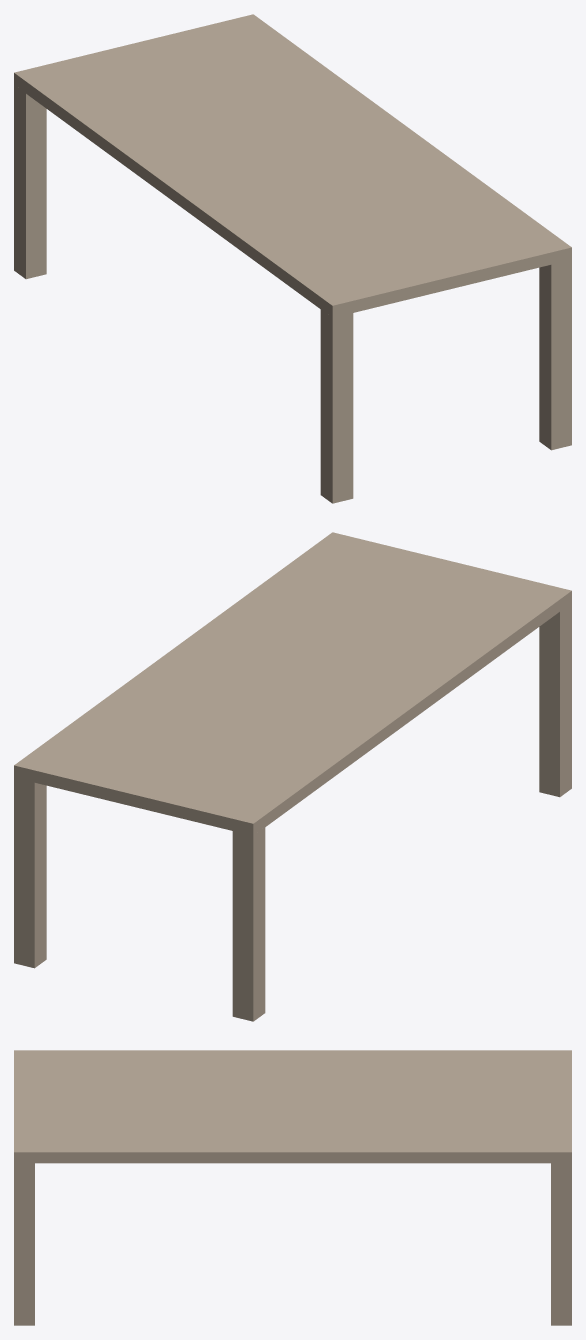
The model's file is GrandeTable_4.fbx.
3 renders of one model, top to bottom at view 1: azimuth 30°, elevation 25°; view 2: azimuth 150°, elevation 25°; view 3: azimuth 270°, elevation 25°, orthographic. The views are drawn at different scales.
Parts seen in each view (by area): view 1: pCube43, pCube47, pCube46, pCube49; view 2: pCube43, pCube49, pCube48, pCube47; view 3: pCube43, pCube48, pCube46.
Boxes of the visible parts, x1,y1,x2,y2 form: pCube43: (14, 14, 571, 317); pCube47: (320, 309, 353, 503); pCube46: (539, 259, 571, 450); pCube49: (14, 84, 46, 279); pCube43: (14, 532, 571, 835); pCube49: (232, 827, 265, 1021); pCube48: (14, 777, 46, 968); pCube47: (539, 602, 571, 797); pCube43: (14, 1050, 571, 1163); pCube48: (551, 1162, 571, 1325); pCube46: (14, 1162, 34, 1325).
Size of the model in its own units: 50.06 by 39.53 by 115.
